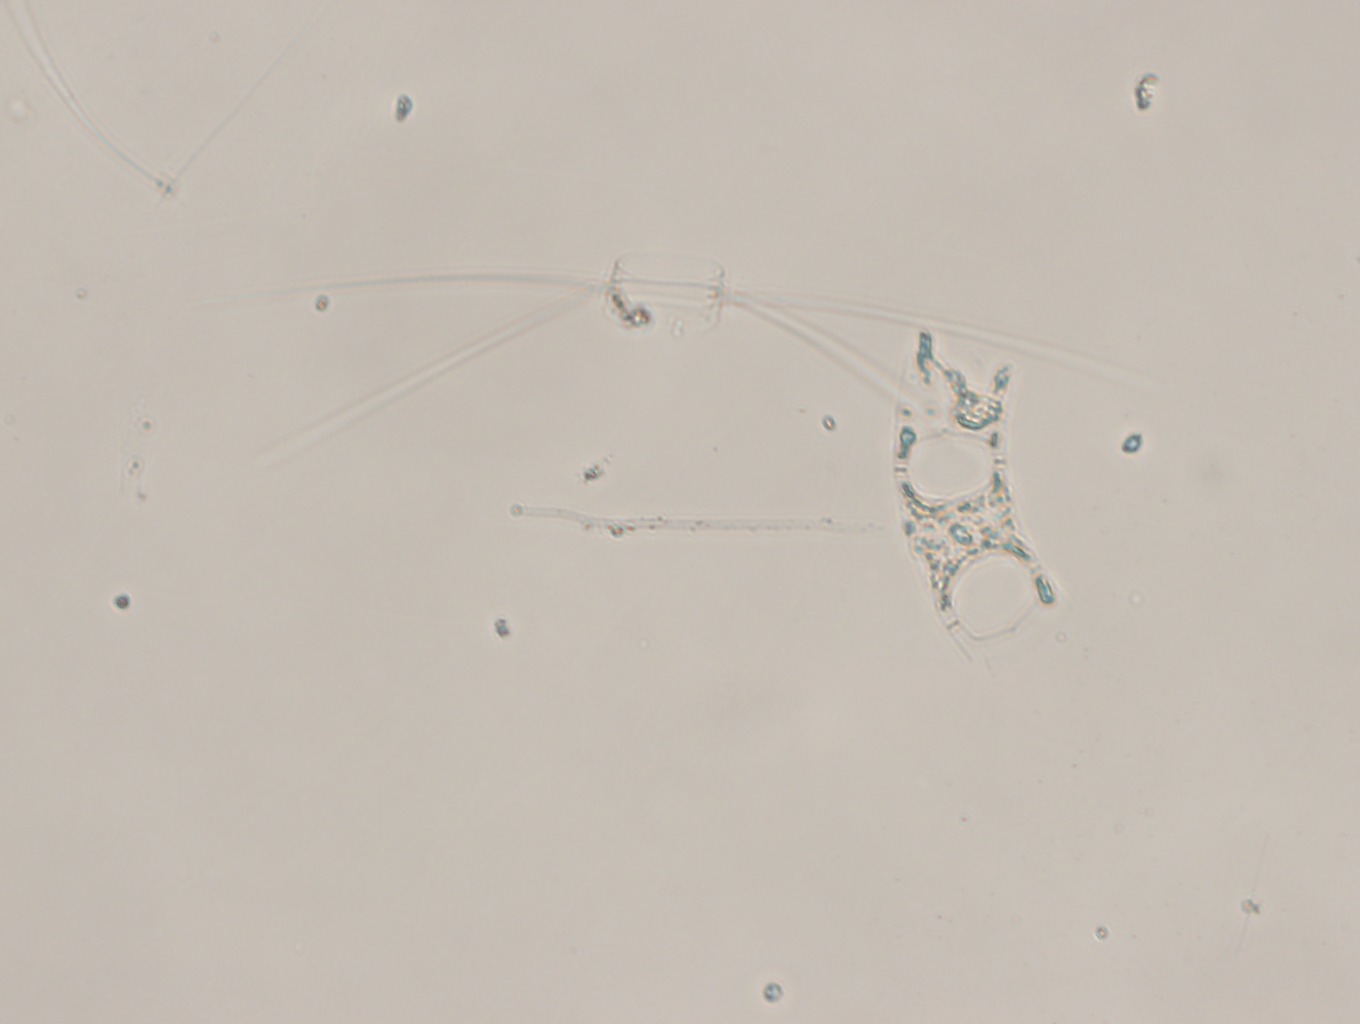chaetoceros: (194, 247, 1221, 474)
eucampia: (876, 323, 1075, 666)
